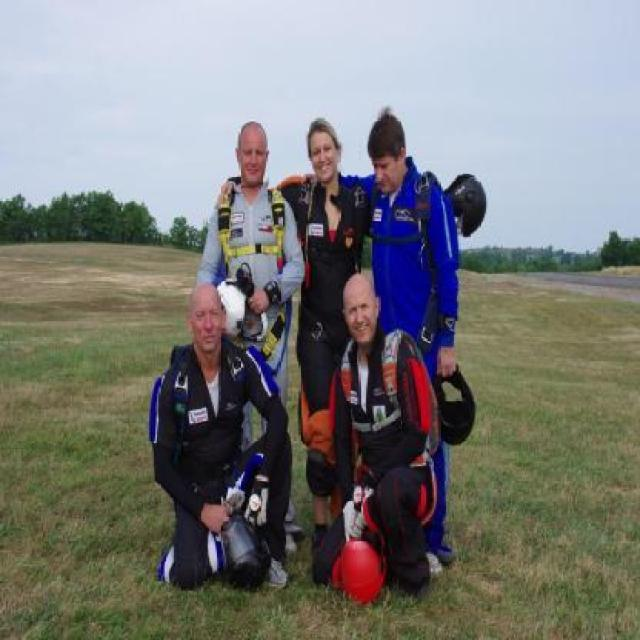backpack: (222, 342, 248, 411), (415, 166, 434, 254), (266, 183, 286, 259), (217, 182, 235, 264), (172, 354, 188, 446), (382, 328, 398, 404), (351, 185, 366, 249), (341, 342, 354, 402), (297, 182, 309, 246)
